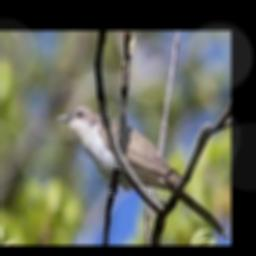Cuckoo: (56, 105, 227, 238)
